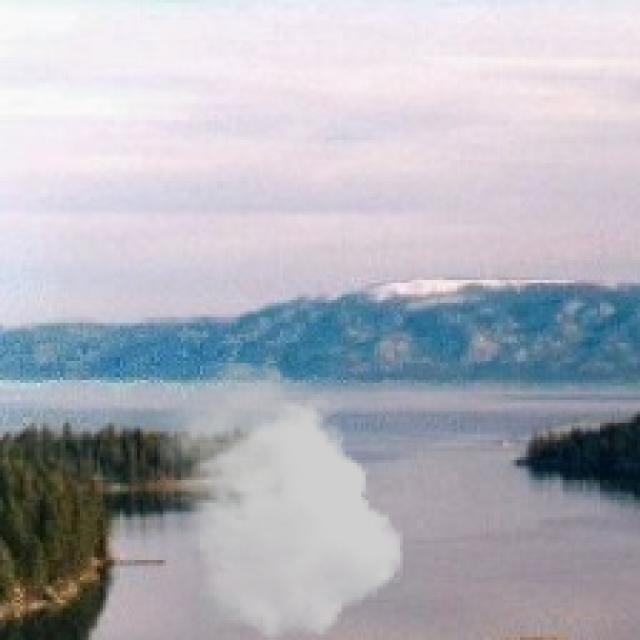Smoke: (157, 362, 406, 638)
